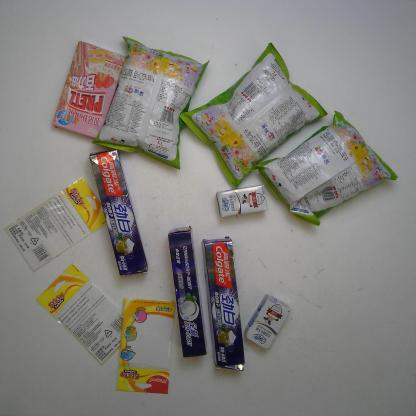Dessert: (52, 39, 126, 142)
Milk: (244, 294, 290, 350), (216, 184, 268, 218)
Personal Hygiene: (87, 146, 148, 278), (199, 235, 251, 378), (165, 224, 207, 358)
Puffed Food: (183, 43, 334, 192), (261, 108, 405, 241), (95, 32, 207, 173)
Stationery: (6, 177, 110, 277), (35, 265, 133, 369), (115, 298, 177, 394)
